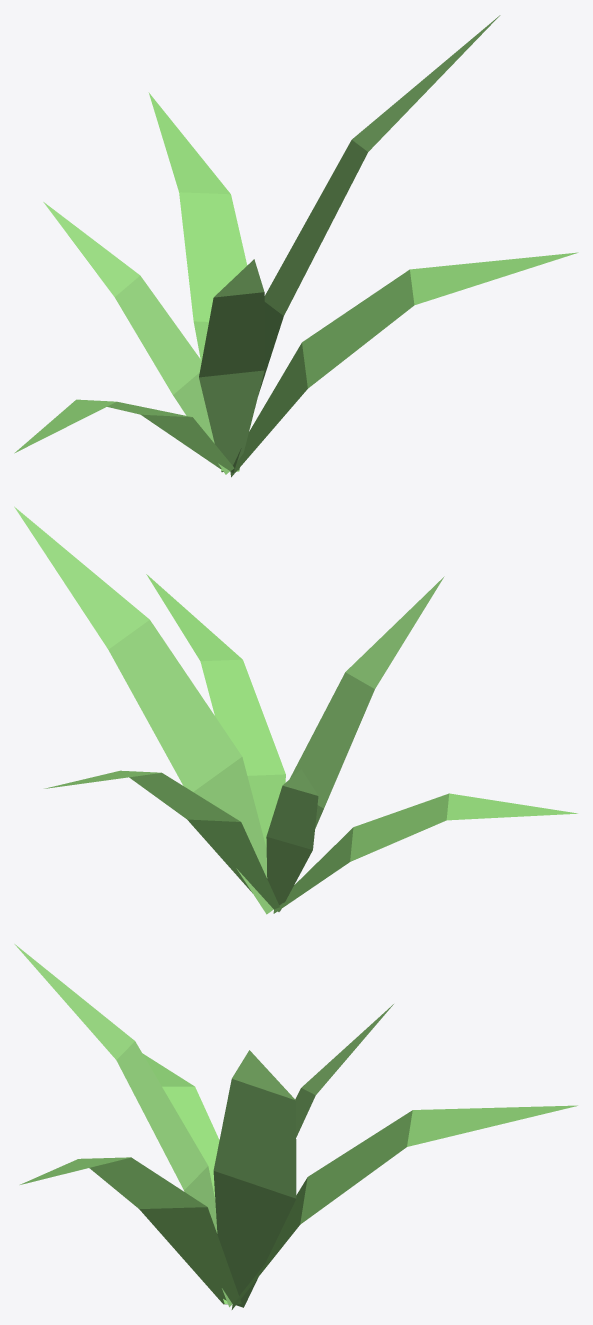
Rendered from Plant_e_TwoS_06.fbx.
3 views of the same model, one above another, from view 1: azimuth 30°, elevation 25°; view 2: azimuth 150°, elevation 25°; view 3: azimuth 270°, elevation 25° (orthographic). The views are drawn at different scales.
Visible parts, largest first — view 1: Plant_e_TwoS_06; view 2: Plant_e_TwoS_06; view 3: Plant_e_TwoS_06.
Boxes of the visible parts, x1=… form: Plant_e_TwoS_06: x1=14, y1=15, x2=578, y2=477; Plant_e_TwoS_06: x1=14, y1=506, x2=577, y2=914; Plant_e_TwoS_06: x1=14, y1=944, x2=577, y2=1309.
Bounding box in the file's own units: 74.92 × 49.66 × 64.09.
